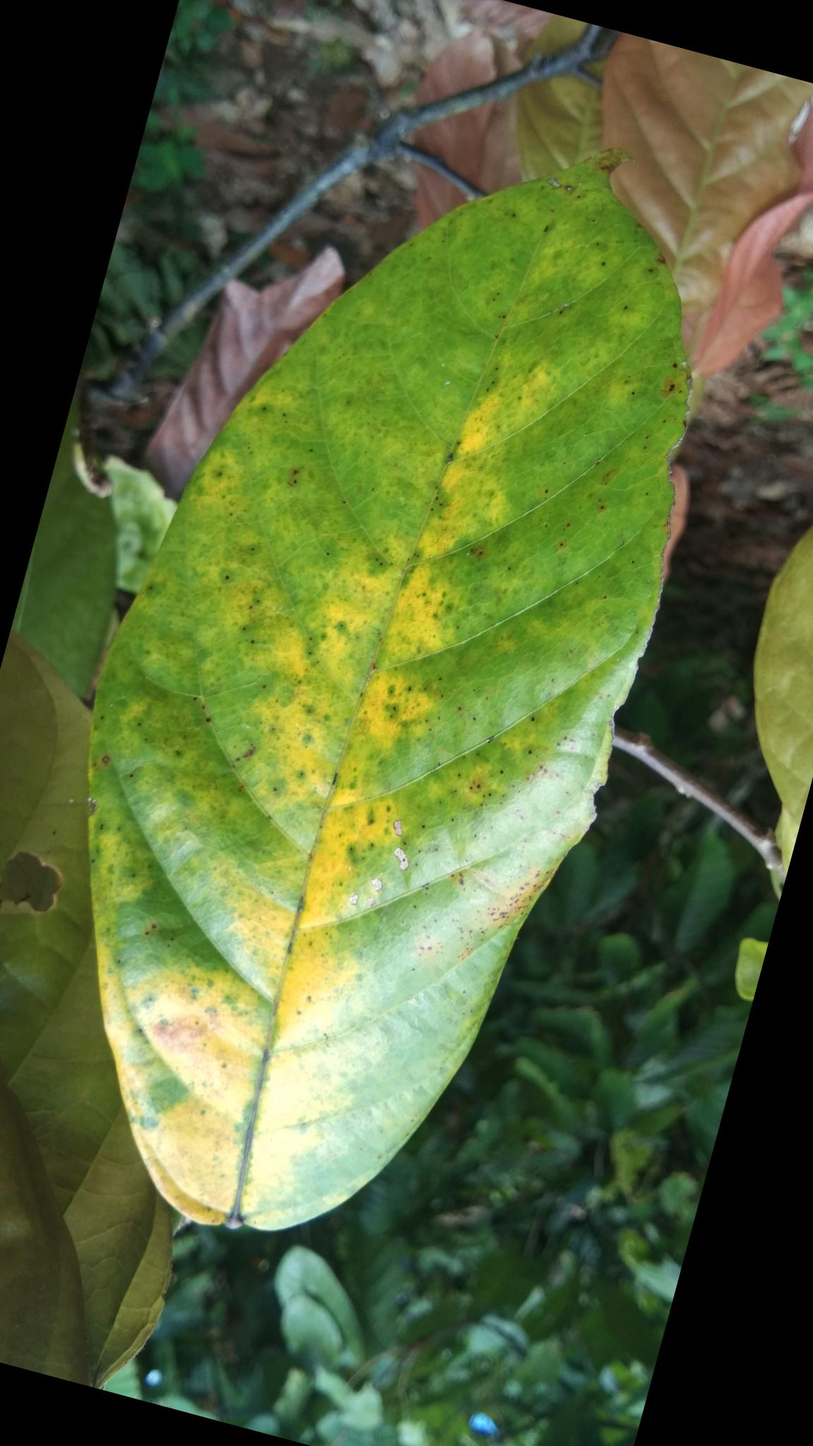Fosforo: (89, 150, 692, 1238)
